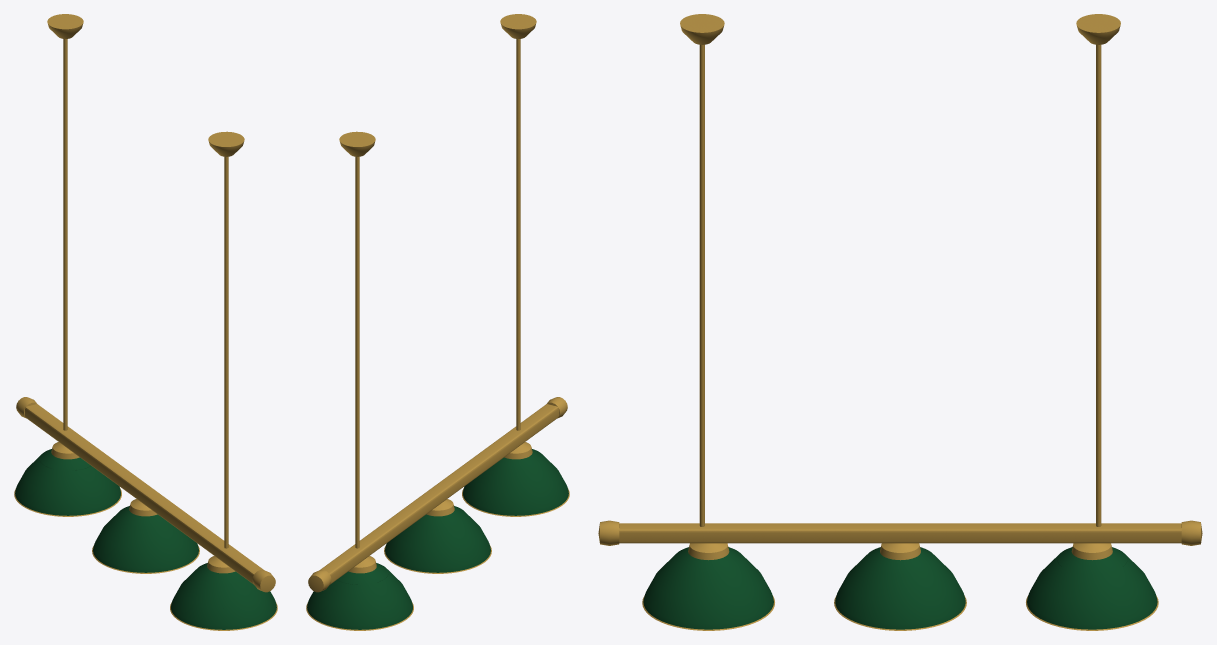
The model's file is SM_CR_Pendant.glb.
3 renders of one model, left to right at view 1: azimuth 30°, elevation 25°; view 2: azimuth 150°, elevation 25°; view 3: azimuth 270°, elevation 25°, orthographic. The views are drawn at different scales.
Visible parts, largest first — view 1: SM_CR_Pendant; view 2: SM_CR_Pendant; view 3: SM_CR_Pendant.
Part boxes in pixels (x1=…): SM_CR_Pendant: x1=14, y1=14, x2=277, y2=630; SM_CR_Pendant: x1=306, y1=14, x2=569, y2=630; SM_CR_Pendant: x1=598, y1=14, x2=1202, y2=630.
Bounding box in the file's own units: 0.416 × 2 × 1.89.
3 materials, 3 textured.
